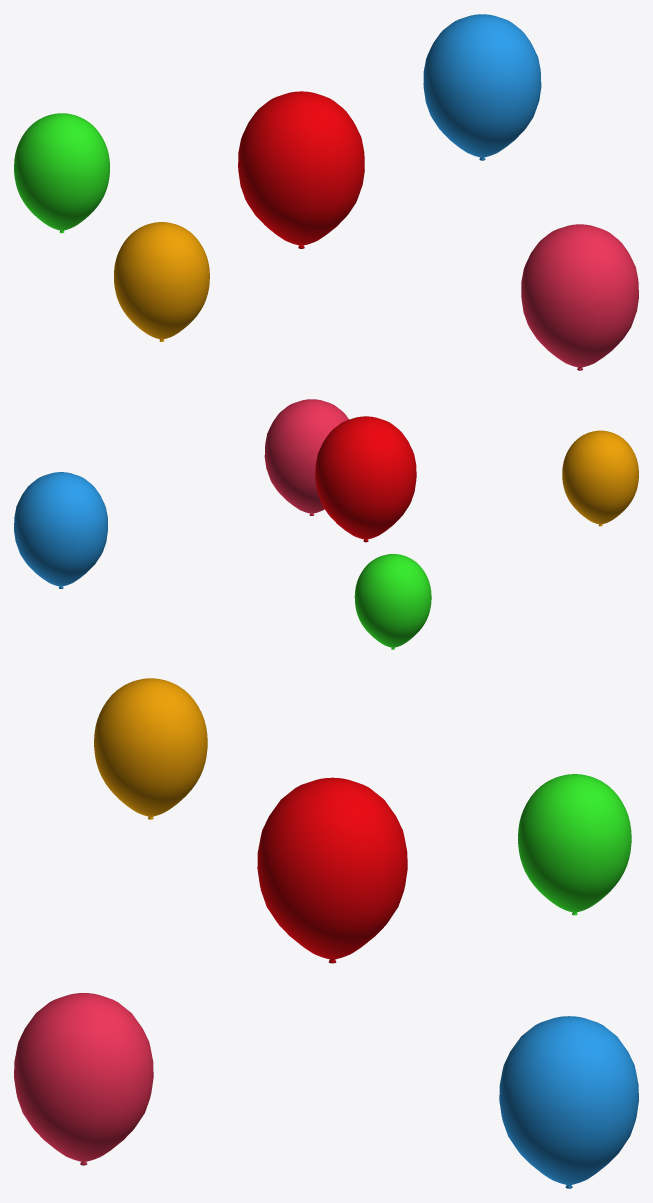
Rendered from balloon2.glb.
3 renders of one model, top to bottom at view 1: azimuth 30°, elevation 25°; view 2: azimuth 150°, elevation 25°; view 3: azimuth 270°, elevation 25°, orthographic. The views are drawn at different scales.
Parts seen in each view (by area): view 1: BezierCurve.001, BezierCurve.002, BezierCurve.003, Sphere.002, Sphere.001; view 2: BezierCurve.001, BezierCurve.002, BezierCurve.003, Sphere.001, Sphere.002; view 3: BezierCurve.001, BezierCurve.003, BezierCurve.002, Sphere.002, Sphere.001.
Boxes of the visible parts, x1,y1,x2,y2 form: BezierCurve.001: (238,91,364,248); BezierCurve.002: (423,14,541,160); BezierCurve.003: (521,224,638,370); Sphere.002: (14,113,109,233); Sphere.001: (114,222,209,341); BezierCurve.001: (315,416,416,542); BezierCurve.002: (14,472,107,588); BezierCurve.003: (264,399,348,515); Sphere.001: (562,430,638,526); Sphere.002: (354,554,431,649); BezierCurve.001: (257,777,407,963); BezierCurve.003: (14,993,153,1165); BezierCurve.002: (499,1016,638,1188); Sphere.002: (518,774,631,915); Sphere.001: (94,678,207,819).
Size of the model in its own units: 14.09 by 5.42 by 10.95.
